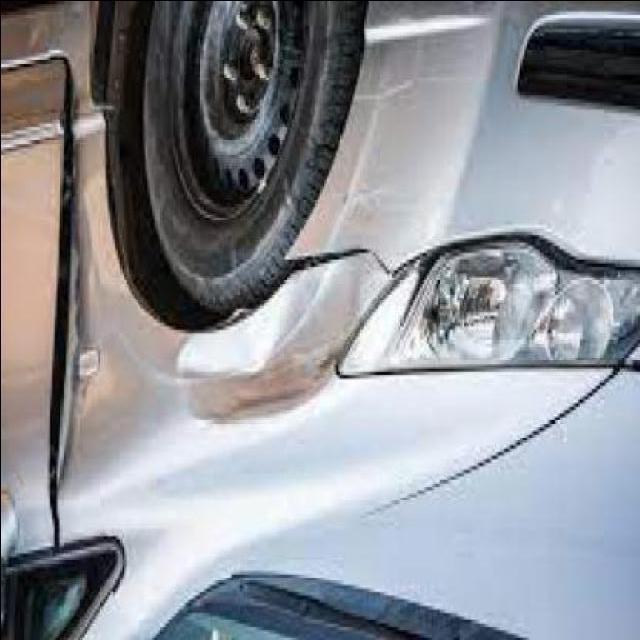doorouter-dent: (34, 24, 97, 552)
fender-dent: (179, 238, 379, 434)
